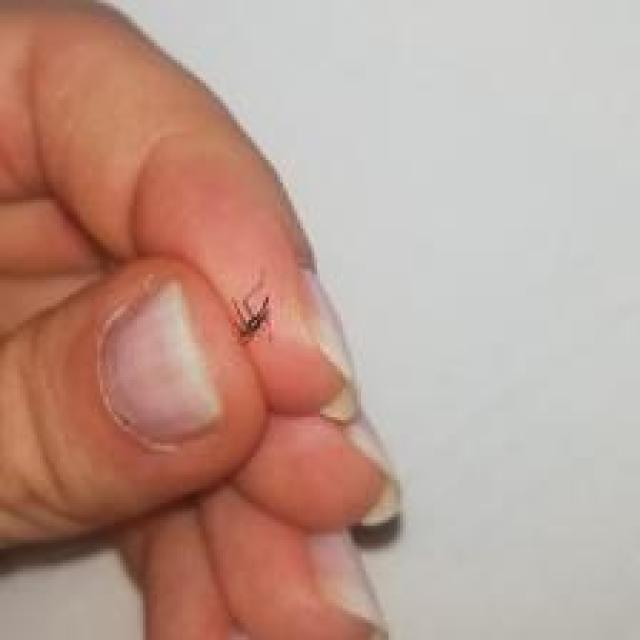Aedes albopictus: (229, 293, 274, 347)
